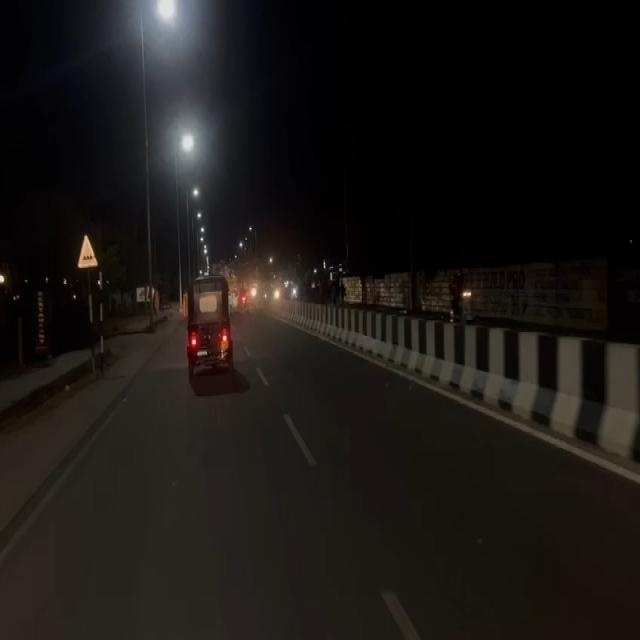bien_nguy_hiem: (77, 233, 99, 271)
